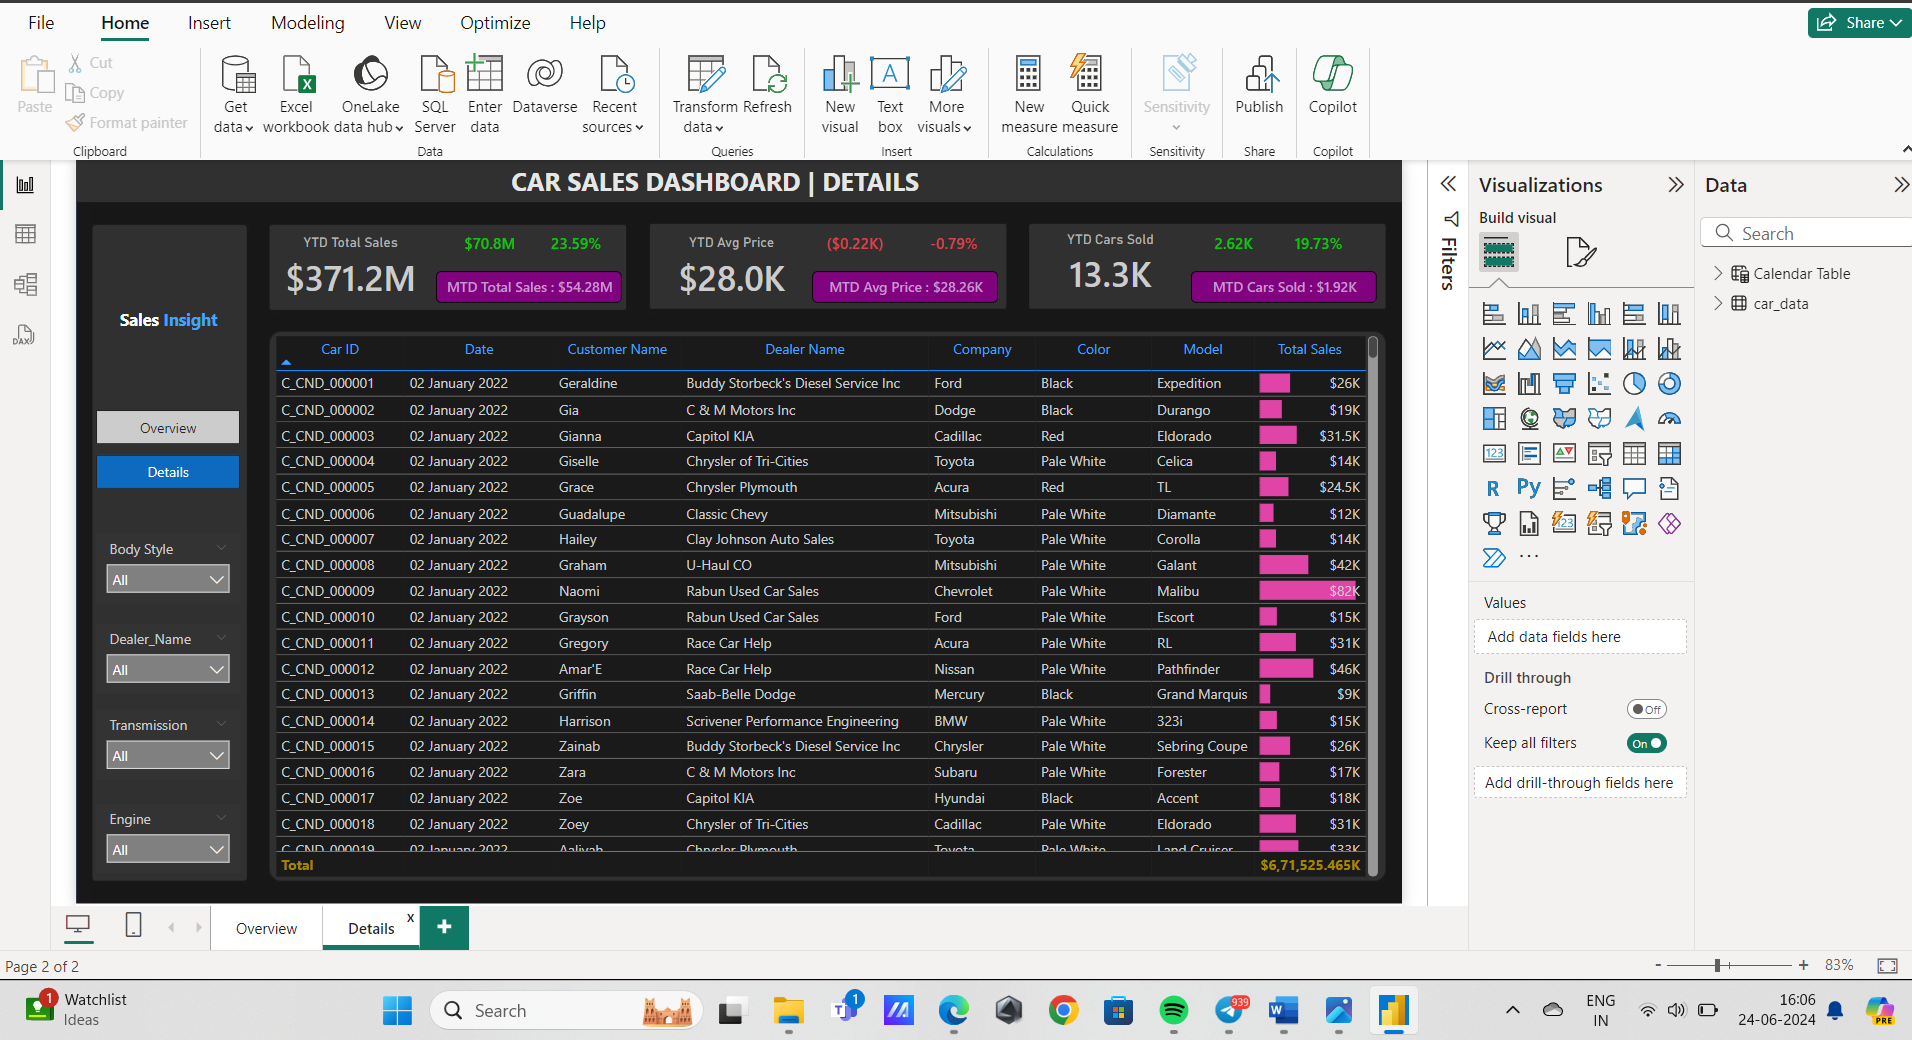

What the dashboard file says about the page in this screenshot:
{"tool":"powerbi","page":{"name":"Details","canvas":[1280,720],"ordinal":1},"visuals":[{"type":"card","title":"YTD Total Sales","fields":{"Values":["car_data.YTD Total Sales"]},"box":[186.9,72.6,155.9,68.2],"z":0},{"type":"card","fields":{"Values":["car_data.Sales Difference"]},"box":[358.9,65.2,82.7,35],"z":1000},{"type":"card","fields":{"Values":["car_data.YoY Sales Growth"]},"box":[441.6,65.2,82.7,35],"z":2000},{"type":"card","fields":{"Values":["car_data.MTD KPI"]},"box":[347.2,107,179,30.2],"z":3000},{"type":"card","title":"YTD Avg Price","fields":{"Values":["car_data.YTD Avg Price"]},"box":[554.4,72.9,155.6,68.1],"z":4000},{"type":"card","fields":{"Values":["car_data.Avg Price Diff"]},"box":[710,65.2,82.7,35],"z":5000},{"type":"card","fields":{"Values":["car_data.YoY Avg Price Growth"]},"box":[805.3,65.2,82.7,35],"z":6000},{"type":"card","fields":{"Values":["car_data.MTD Avg Price KPI"]},"box":[710,107,179,30.2],"z":7000},{"type":"card","title":"YTD Cars Sold","fields":{"Values":["car_data.YTD Cars Sold"]},"box":[920.1,69.1,155.6,68.1],"z":8000},{"type":"card","fields":{"Values":["car_data.Cars Sold Diff"]},"box":[1075.7,65.2,82.7,35],"z":9000},{"type":"card","fields":{"Values":["car_data.YoY Car Sold Growth"]},"box":[1158.4,65.2,82.7,35],"z":10000},{"type":"card","fields":{"Values":["car_data.MTD Cars Sold KPI"]},"box":[1075.7,107,179,30.2],"z":11000},{"type":"textbox","box":[414.5,0,447.2,41.6],"z":12000},{"type":"slicer","fields":{"Values":["car_data.Body Style"]},"box":[19.5,360.4,139,67.3],"z":13000},{"type":"slicer","fields":{"Values":["car_data.Dealer_Name"]},"box":[19.5,447.2,139,67.3],"z":14000},{"type":"slicer","fields":{"Values":["car_data.Transmission"]},"box":[19.5,531.4,139,67.3],"z":15000},{"type":"slicer","fields":{"Values":["car_data.Engine"]},"box":[19.5,621.7,139,67.3],"z":16000},{"type":"tableEx","fields":{"Values":["car_data.Car_id","car_data.Date","car_data.Customer Name","car_data.Dealer_Name","car_data.Company","car_data.Color","car_data.Model","car_data.Price ($)"]},"box":[186.9,165.6,1074.2,531.4],"z":17000},{"type":"pageNavigator","box":[19.5,240.9,139,77.9],"z":18000},{"type":"textbox","box":[14.2,137.3,149.7,39.9],"z":19000}]}

Visuals, with their boxes on the page's 1280x720 design canvas (x1, y1, x2, y2). These are canvas units, not pixel positions in the 1912x1040 screenshot, which may show the page scaled, cropped or inside an application window:
"YTD Total Sales" card: [187, 73, 343, 141]
card - car_data.Sales Difference: [359, 65, 442, 100]
card - car_data.YoY Sales Growth: [442, 65, 524, 100]
card - car_data.MTD KPI: [347, 107, 526, 137]
"YTD Avg Price" card: [554, 73, 710, 141]
card - car_data.Avg Price Diff: [710, 65, 793, 100]
card - car_data.YoY Avg Price Growth: [805, 65, 888, 100]
card - car_data.MTD Avg Price KPI: [710, 107, 889, 137]
"YTD Cars Sold" card: [920, 69, 1076, 137]
card - car_data.Cars Sold Diff: [1076, 65, 1158, 100]
card - car_data.YoY Car Sold Growth: [1158, 65, 1241, 100]
card - car_data.MTD Cars Sold KPI: [1076, 107, 1255, 137]
textbox: [414, 0, 862, 42]
slicer - car_data.Body Style: [20, 360, 158, 428]
slicer - car_data.Dealer_Name: [20, 447, 158, 514]
slicer - car_data.Transmission: [20, 531, 158, 599]
slicer - car_data.Engine: [20, 622, 158, 689]
tableEx - car_data.Car_id x car_data.Date: [187, 166, 1261, 697]
pageNavigator: [20, 241, 158, 319]
textbox: [14, 137, 164, 177]
